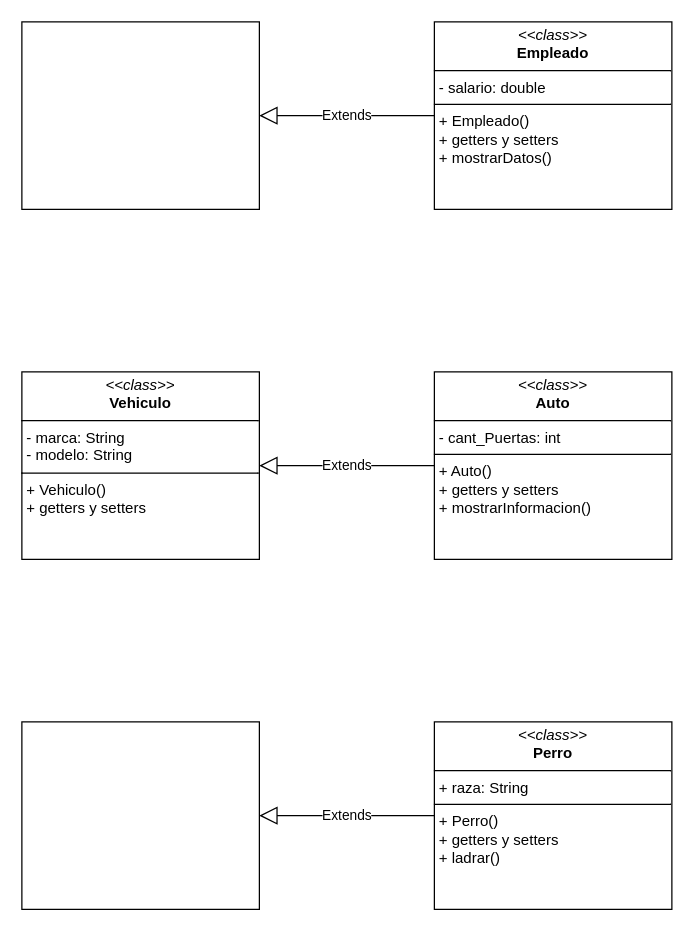
Image size: 694x931. Some labels were removed from this diagram. The shapes that lost their labels are listed below. From the top down, each one's box as (x1, y1, x2, y2) in pixels, then its label:
(21, 21, 259, 209): <<class>> Persona - nombre: String - edad: int + Persona() + getters y setters
(21, 721, 259, 909): <<class>> Animal + nombre: String + edad: int + Animal() + getters y setters
